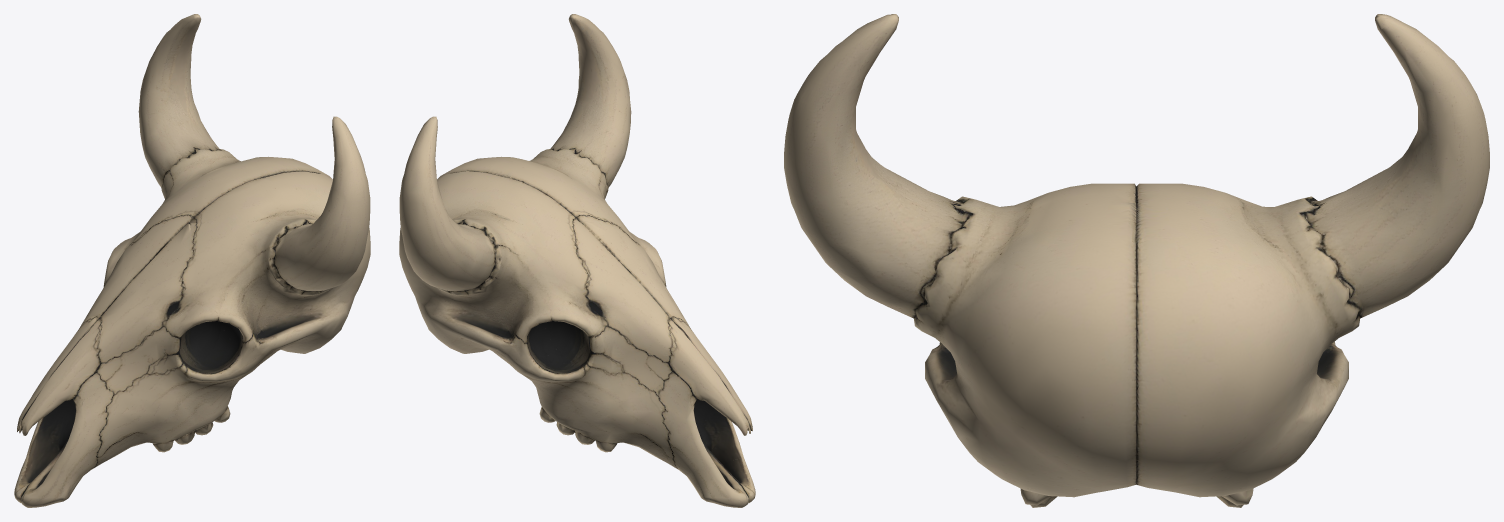
The model's file is buggy-skull.glb.
3 renders of one model, left to right at view 1: azimuth 30°, elevation 25°; view 2: azimuth 150°, elevation 25°; view 3: azimuth 270°, elevation 25°, orthographic. The views are drawn at different scales.
Parts seen in each view (by area): view 1: tripo_node_70e11871-4fb1-44b8-877b-f03345b09a4d; view 2: tripo_node_70e11871-4fb1-44b8-877b-f03345b09a4d; view 3: tripo_node_70e11871-4fb1-44b8-877b-f03345b09a4d.
Part boxes in pixels (box(x1,y1,x2,y2)): tripo_node_70e11871-4fb1-44b8-877b-f03345b09a4d: box(14, 14, 370, 507); tripo_node_70e11871-4fb1-44b8-877b-f03345b09a4d: box(399, 14, 755, 507); tripo_node_70e11871-4fb1-44b8-877b-f03345b09a4d: box(784, 14, 1489, 507).
Size of the model in its own units: 0.3871 by 0.42 by 0.4036.
1 material, 1 textured.
